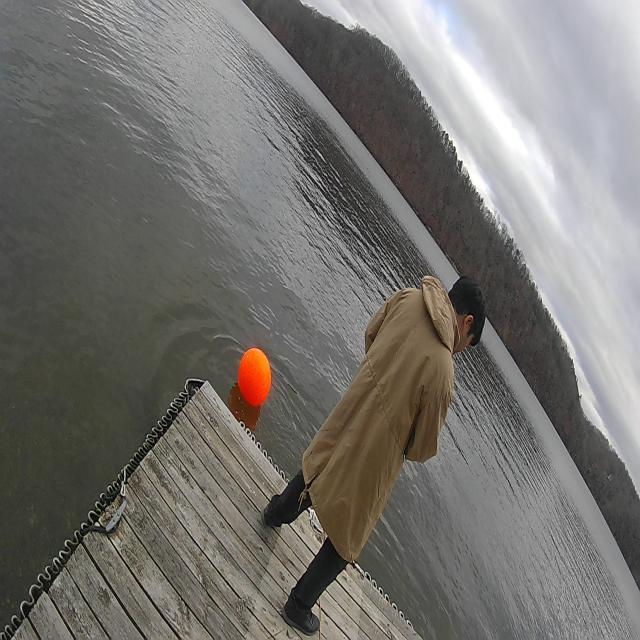Buoy: (236, 343, 273, 410)
